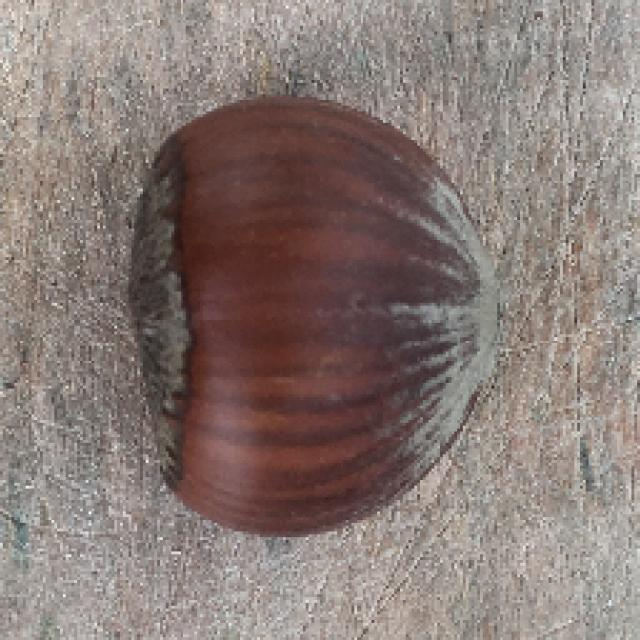damagedHazelnut: (119, 90, 503, 546)
